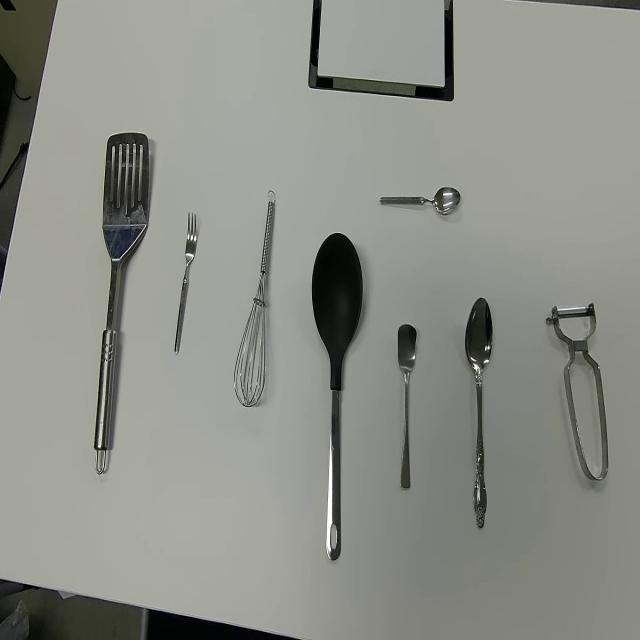Desert-Spoon: (464, 295, 494, 530)
Dinner-Fork: (173, 210, 197, 358)
Peeler: (544, 301, 609, 483)
Serving-Spoon: (94, 131, 150, 477), (311, 230, 364, 564)
Tea-Spoon: (396, 322, 417, 490), (379, 185, 462, 216)
Whisk: (232, 188, 276, 408)
